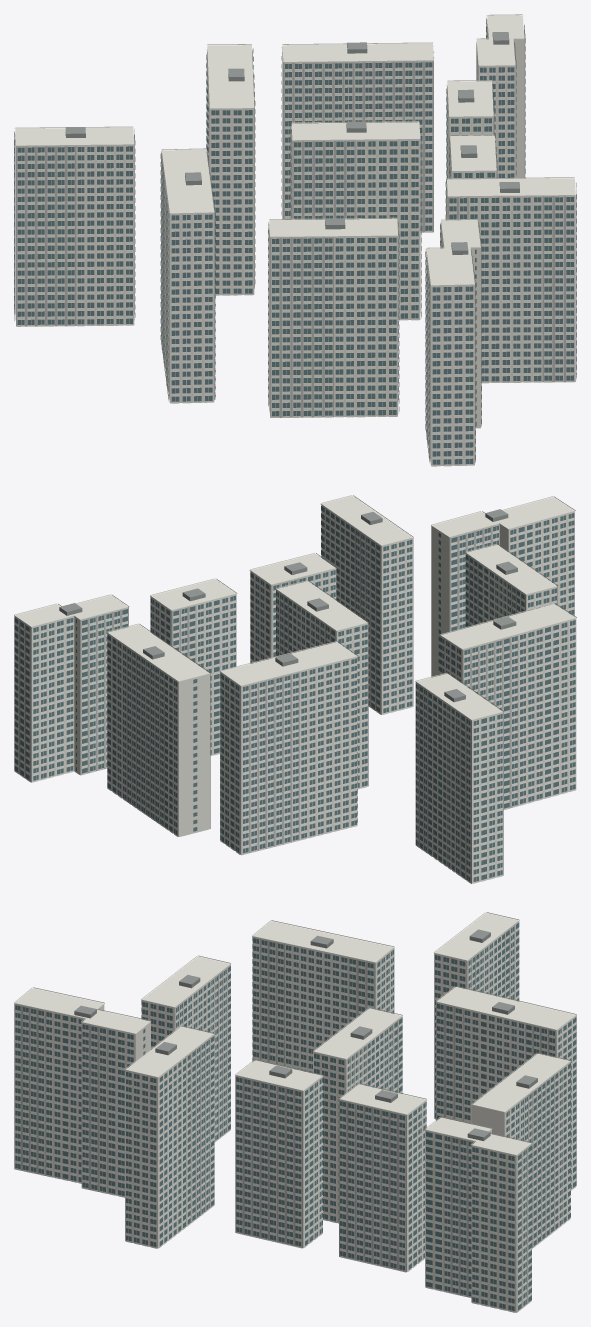
File: representative-a12185303.glb
3 views of the same model, one above another, from view 1: azimuth 30°, elevation 25°; view 2: azimuth 150°, elevation 25°; view 3: azimuth 270°, elevation 25° (orthographic). The views are drawn at different scales.
Visible parts, largest first — view 1: A12185303_trim001, A12185303_glass001, A12185303_wall001, A12185303_accent001, A12185303_roof001; view 2: A12185303_trim001, A12185303_glass001, A12185303_wall001, A12185303_accent001, A12185303_roof001; view 3: A12185303_trim001, A12185303_glass001, A12185303_wall001, A12185303_accent001, A12185303_roof001.
Part boxes in pixels (x1,y1,x2,y2): A12185303_trim001: (14, 14, 576, 466); A12185303_glass001: (14, 19, 576, 464); A12185303_wall001: (15, 15, 575, 466); A12185303_accent001: (16, 43, 575, 462); A12185303_roof001: (65, 32, 519, 254); A12185303_trim001: (14, 495, 576, 883); A12185303_glass001: (14, 506, 575, 881); A12185303_wall001: (15, 496, 576, 883); A12185303_accent001: (14, 524, 557, 883); A12185303_roof001: (59, 509, 517, 702); A12185303_trim001: (14, 912, 576, 1312); A12185303_glass001: (15, 922, 576, 1310); A12185303_wall001: (15, 913, 575, 1312); A12185303_accent001: (14, 922, 576, 1312); A12185303_roof001: (74, 929, 537, 1141).
Bounding box in the file's own units: 182 × 64.4 × 185.
